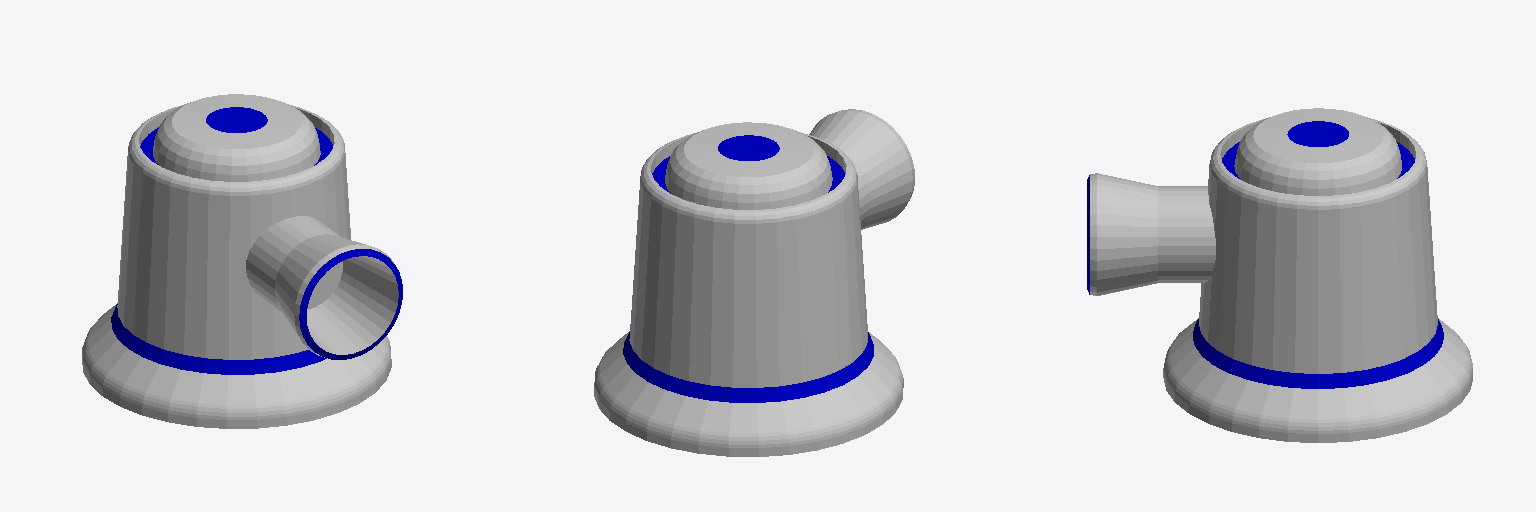
File: cannon.obj
The picture shows the model from 3 angles: view 1: azimuth 30°, elevation 25°; view 2: azimuth 150°, elevation 25°; view 3: azimuth 270°, elevation 25°; orthographic projection.
Visible parts, largest first — view 1: Cylinder.001; view 2: Cylinder.001; view 3: Cylinder.001.
Part boxes in pixels (x1,y1,x2,y2): Cylinder.001: (82,94,402,428); Cylinder.001: (594,109,914,456); Cylinder.001: (1087,108,1472,442).
Size of the model in its own units: 1.95 by 1.69 by 2.44.